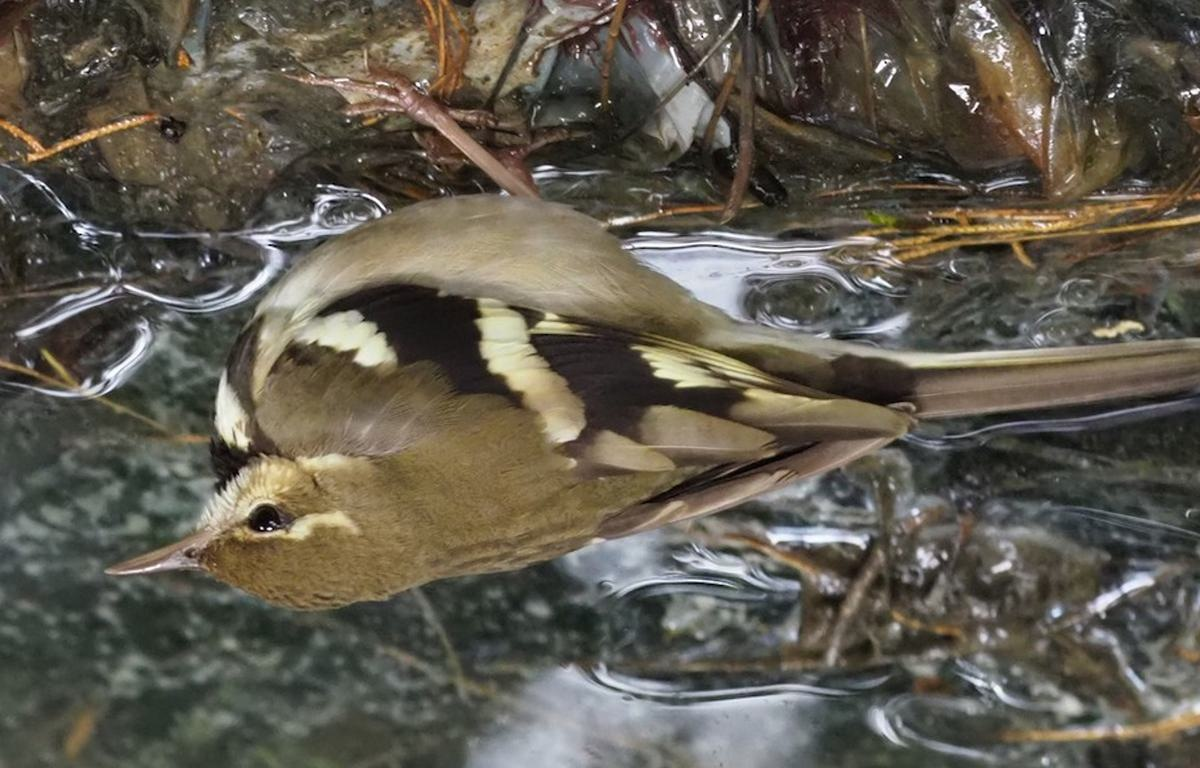wagtail: (123, 230, 984, 620)
